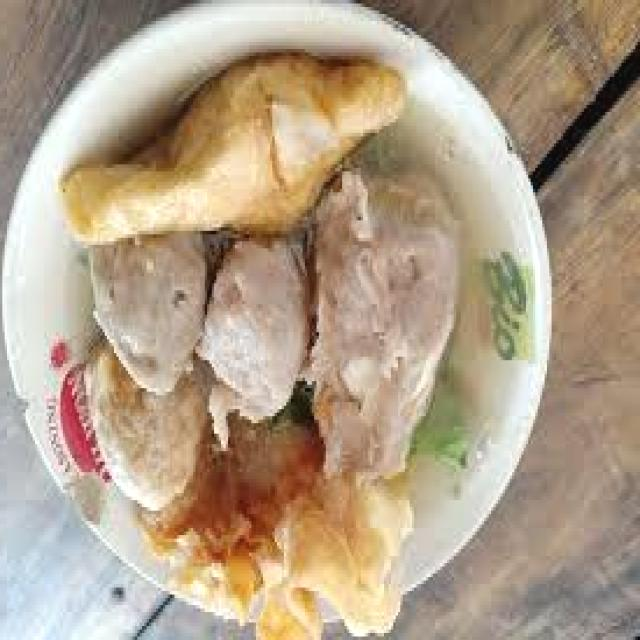bakso: (193, 213, 312, 423)
